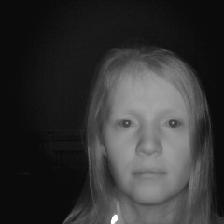normal: (88, 48, 205, 204)
